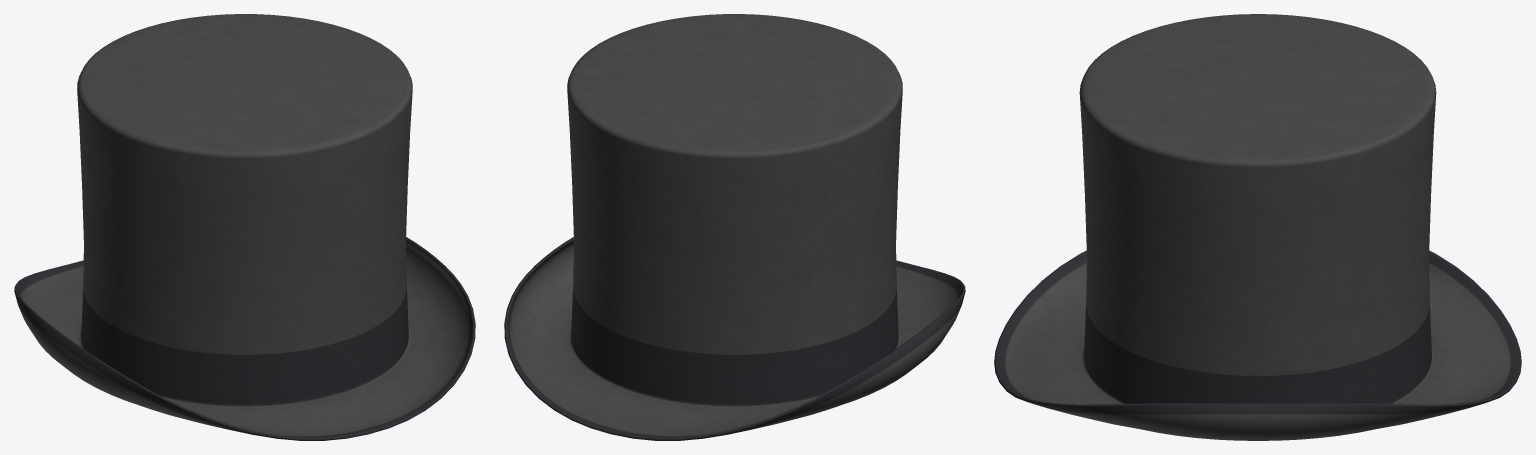
Rendered from top_hat.glb.
3 renders of one model, left to right at view 1: azimuth 30°, elevation 25°; view 2: azimuth 150°, elevation 25°; view 3: azimuth 270°, elevation 25°, orthographic. The views are drawn at different scales.
Parts seen in each view (by area): view 1: top_hat; view 2: top_hat; view 3: top_hat.
Part boxes in pixels (left/top/right/bottom): top_hat: left=14, top=14, right=475, bottom=440; top_hat: left=504, top=14, right=965, bottom=440; top_hat: left=994, top=14, right=1521, bottom=440.
Bounding box in the file's own units: 0.2445 × 0.1659 × 0.2833.
1 material, 1 textured.
